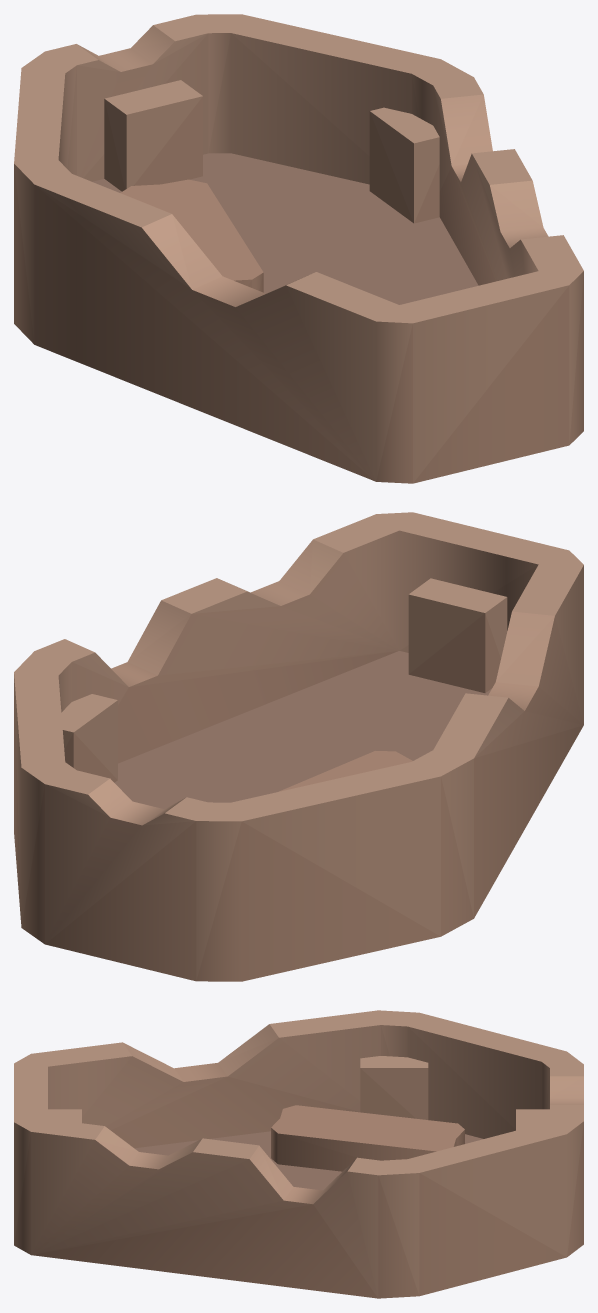
Rendered from kgy_coffin-old.fbx.
3 renders of one model, top to bottom at view 1: azimuth 30°, elevation 25°; view 2: azimuth 150°, elevation 25°; view 3: azimuth 270°, elevation 25°, orthographic. The views are drawn at different scales.
Visible parts, largest first — view 1: coffin-old; view 2: coffin-old; view 3: coffin-old.
Part boxes in pixels (left/top/right/bottom): coffin-old: left=14, top=14, right=583, bottom=483; coffin-old: left=14, top=512, right=583, bottom=981; coffin-old: left=14, top=1010, right=583, bottom=1298.
Size of the model in its own units: 57.38 by 20 by 83.78.
